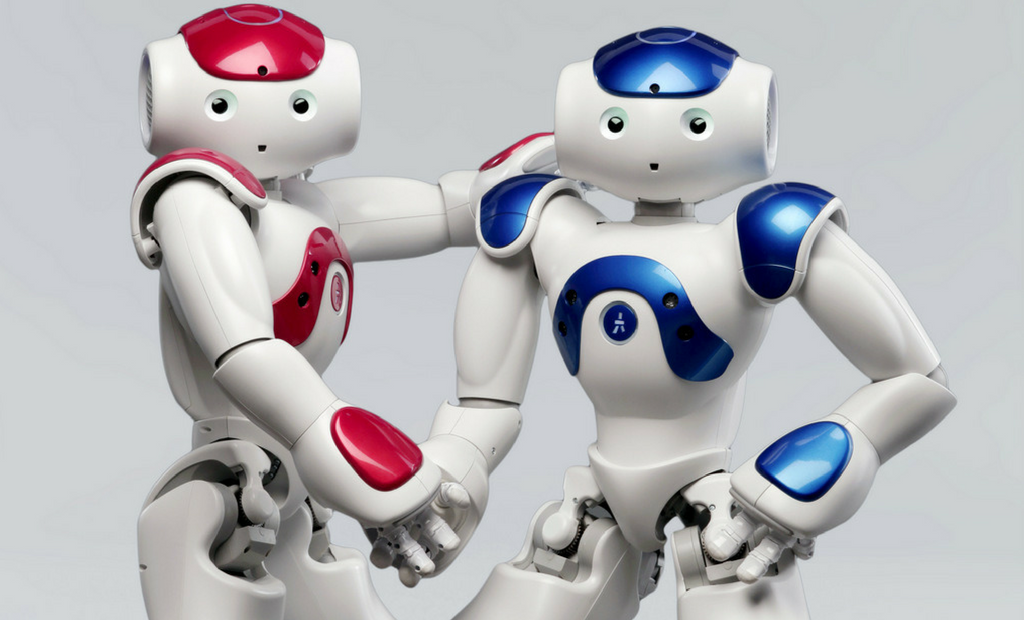nao: (417, 17, 973, 620), (115, 4, 500, 620)
